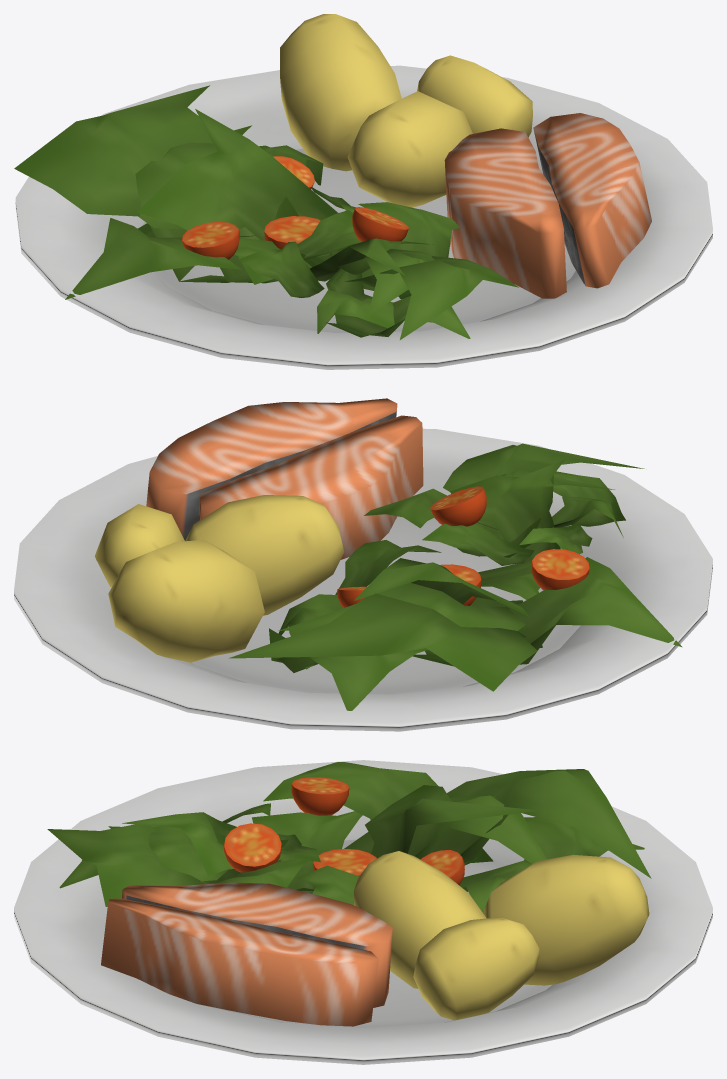
The model's file is assets_plate_with_food.fbx.
3 views of the same model, one above another, from view 1: azimuth 30°, elevation 25°; view 2: azimuth 150°, elevation 25°; view 3: azimuth 270°, elevation 25° (orthographic).
Visible parts, largest first — view 1: assets_plate, assets_salad, assets_salmon, assets_potatos; view 2: assets_plate, assets_salad, assets_potatos, assets_salmon; view 3: assets_plate, assets_salad, assets_salmon, assets_potatos.
Part boxes in pixels (bbox=[...]): assets_plate: bbox=[15, 65, 712, 369]; assets_salad: bbox=[14, 85, 518, 339]; assets_salmon: bbox=[444, 113, 651, 298]; assets_potatos: bbox=[280, 14, 532, 207]; assets_plate: bbox=[14, 428, 712, 731]; assets_salad: bbox=[229, 443, 682, 710]; assets_potatos: bbox=[94, 495, 344, 662]; assets_salmon: bbox=[146, 398, 423, 559]; assets_plate: bbox=[14, 760, 712, 1064]; assets_salad: bbox=[47, 762, 651, 914]; assets_salmon: bbox=[101, 882, 392, 1026]; assets_potatos: bbox=[353, 851, 649, 1020].
Bounding box in the file's own units: 4.16 × 0.8181 × 4.12.
